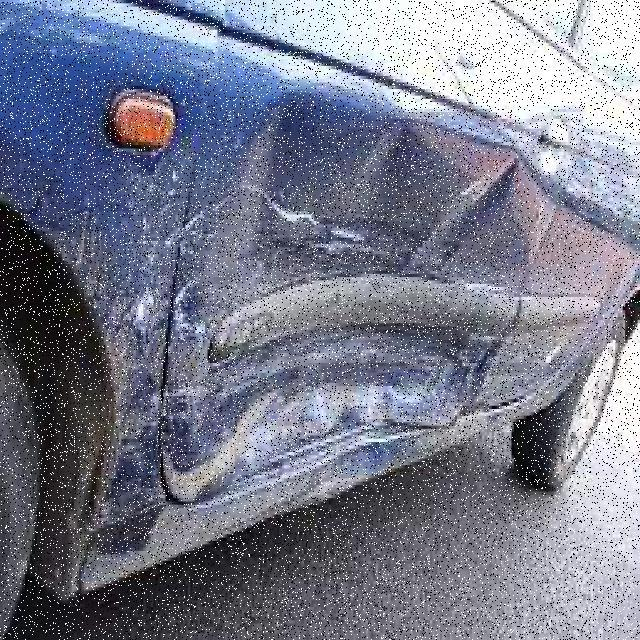doorouter-dent: (180, 30, 503, 476)
fender-dent: (0, 0, 171, 512)
